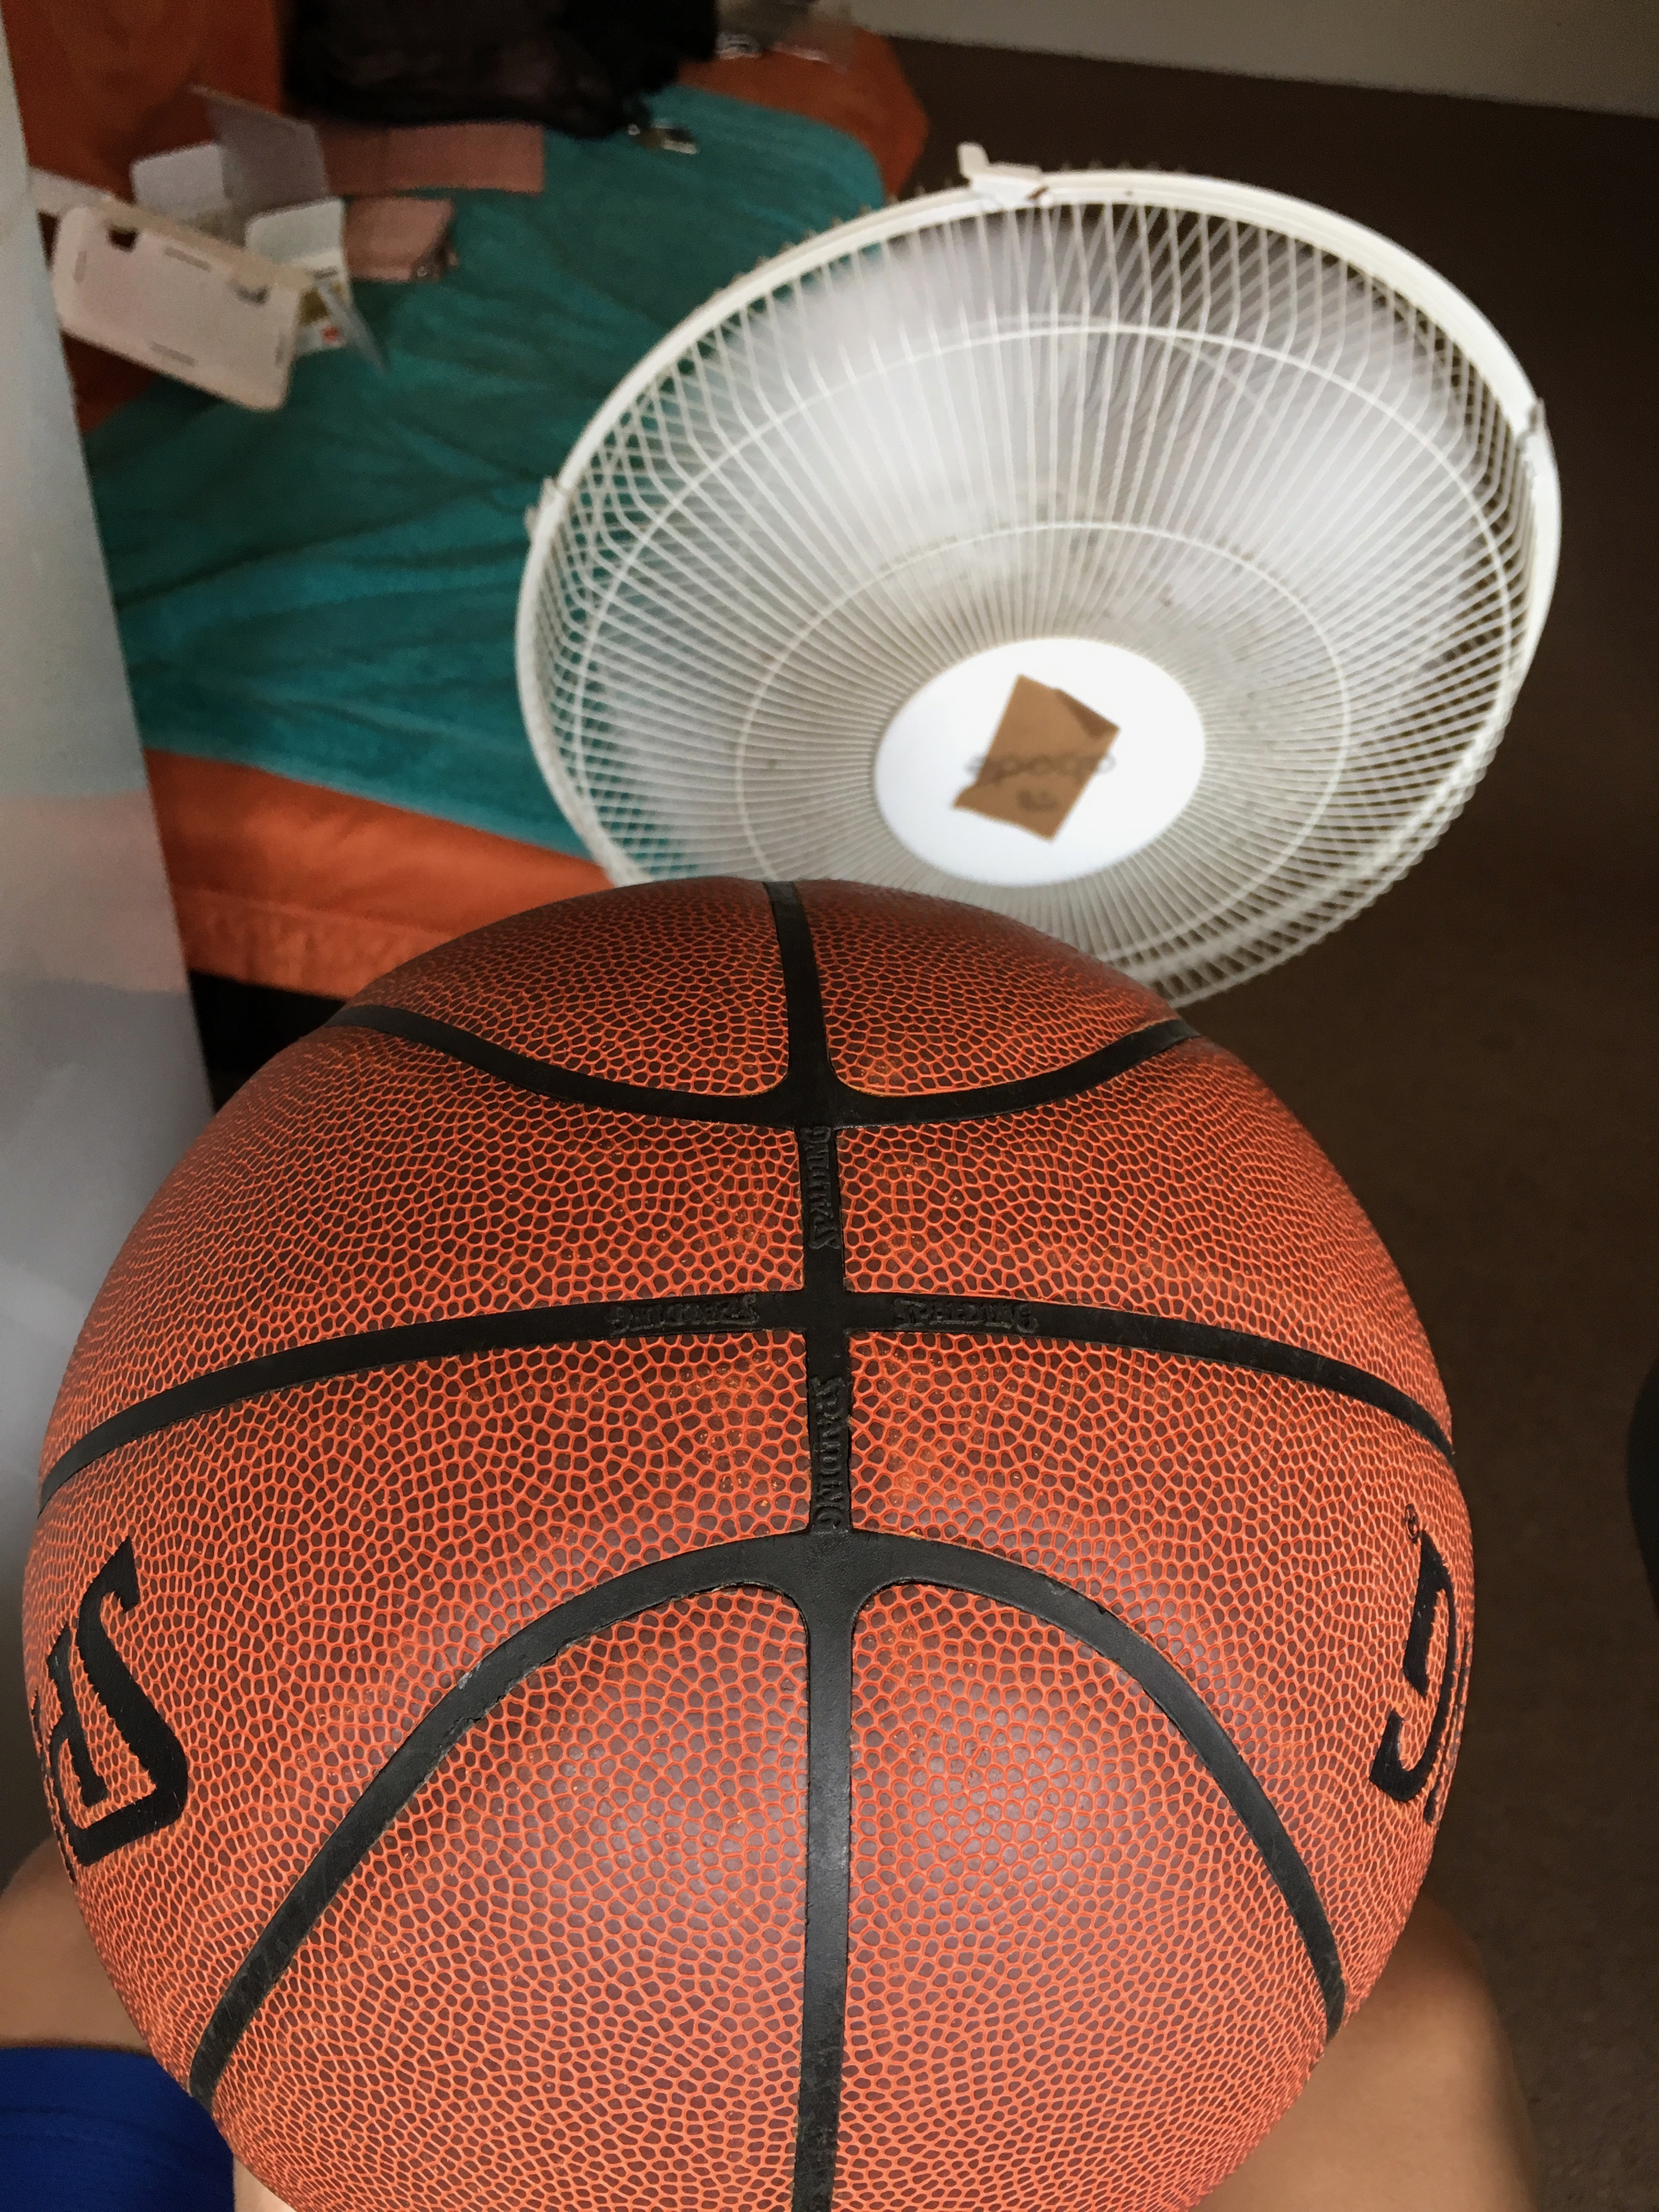Basketball: (14, 862, 1495, 2212)
